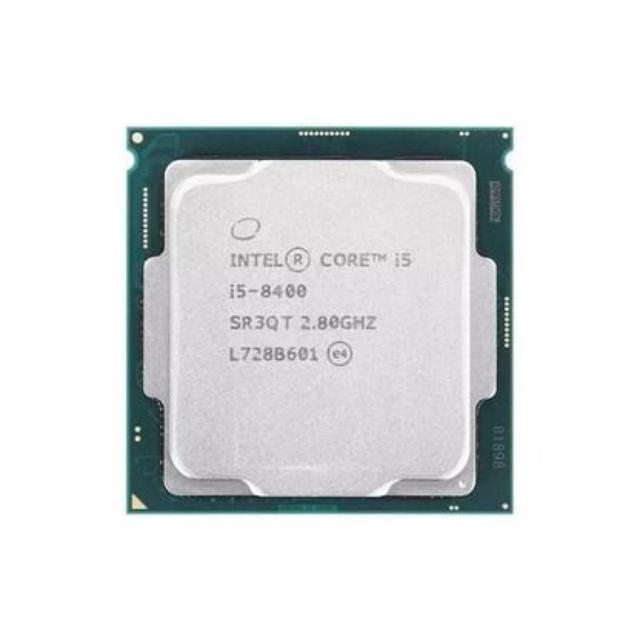CPU: (124, 124, 507, 508)
